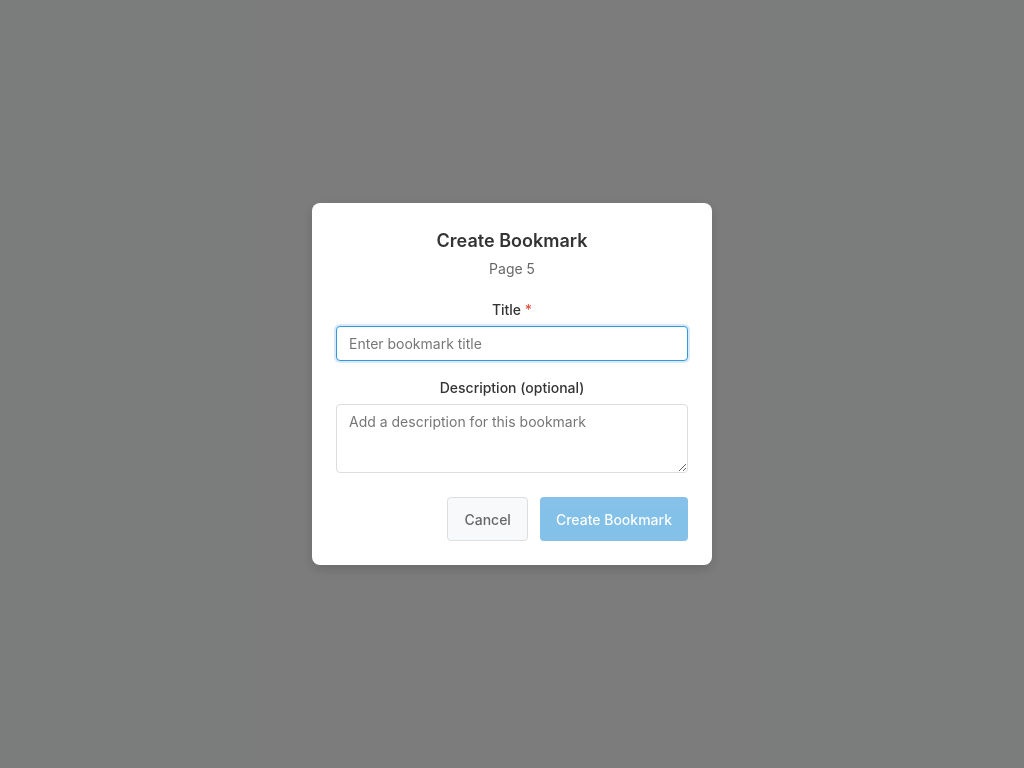
Test: BookmarkCreator › enables create button when title is provided
Type "Test Bookmark" into the field labelled "Title *" at (512, 344), box [336, 326, 688, 361]
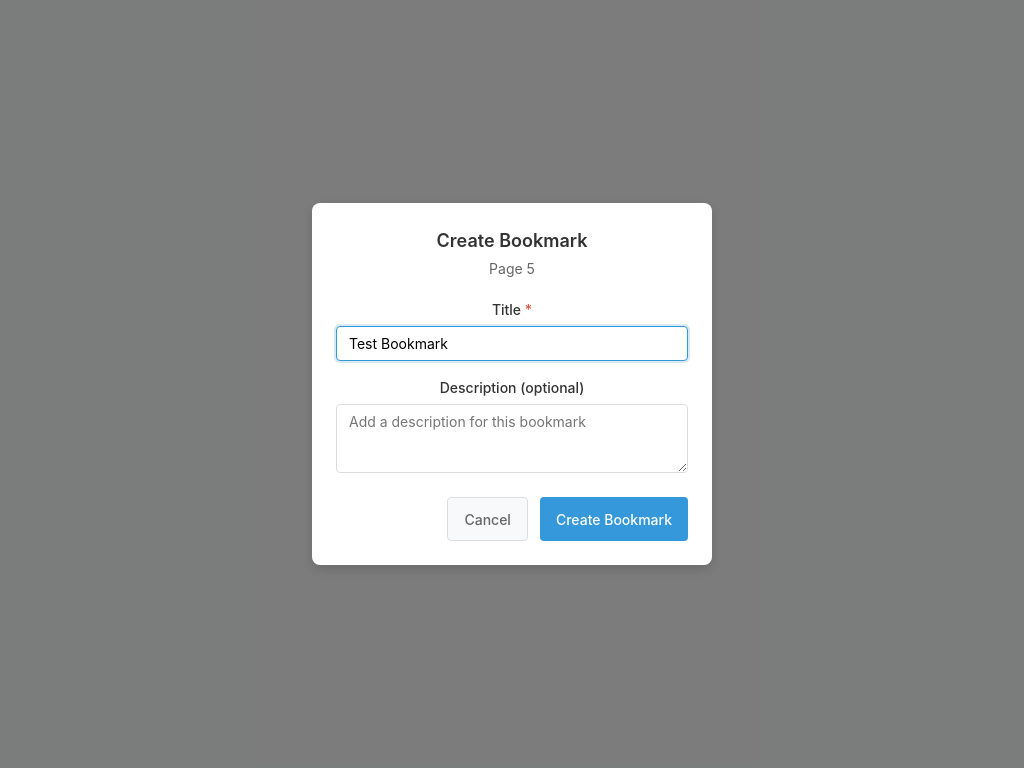
expect the button "Create Bookmark" is enabled: met, box [540, 497, 688, 541]
